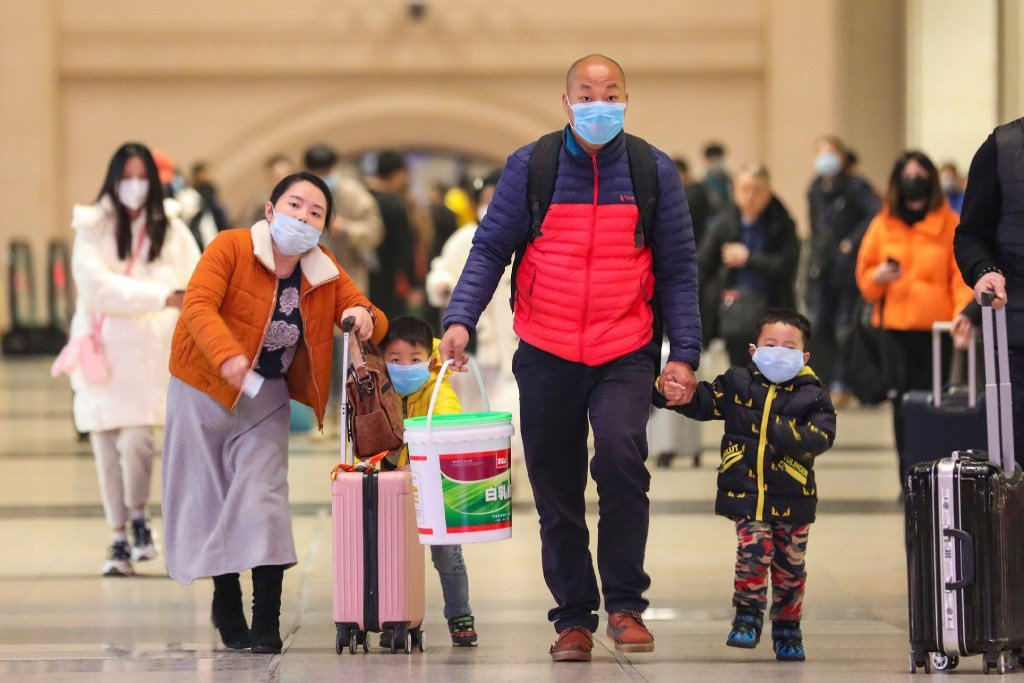with_incorrect_mask: (279, 180, 324, 257)
with_mask: (567, 62, 625, 144), (753, 318, 807, 381), (385, 336, 428, 397), (119, 155, 151, 209)
